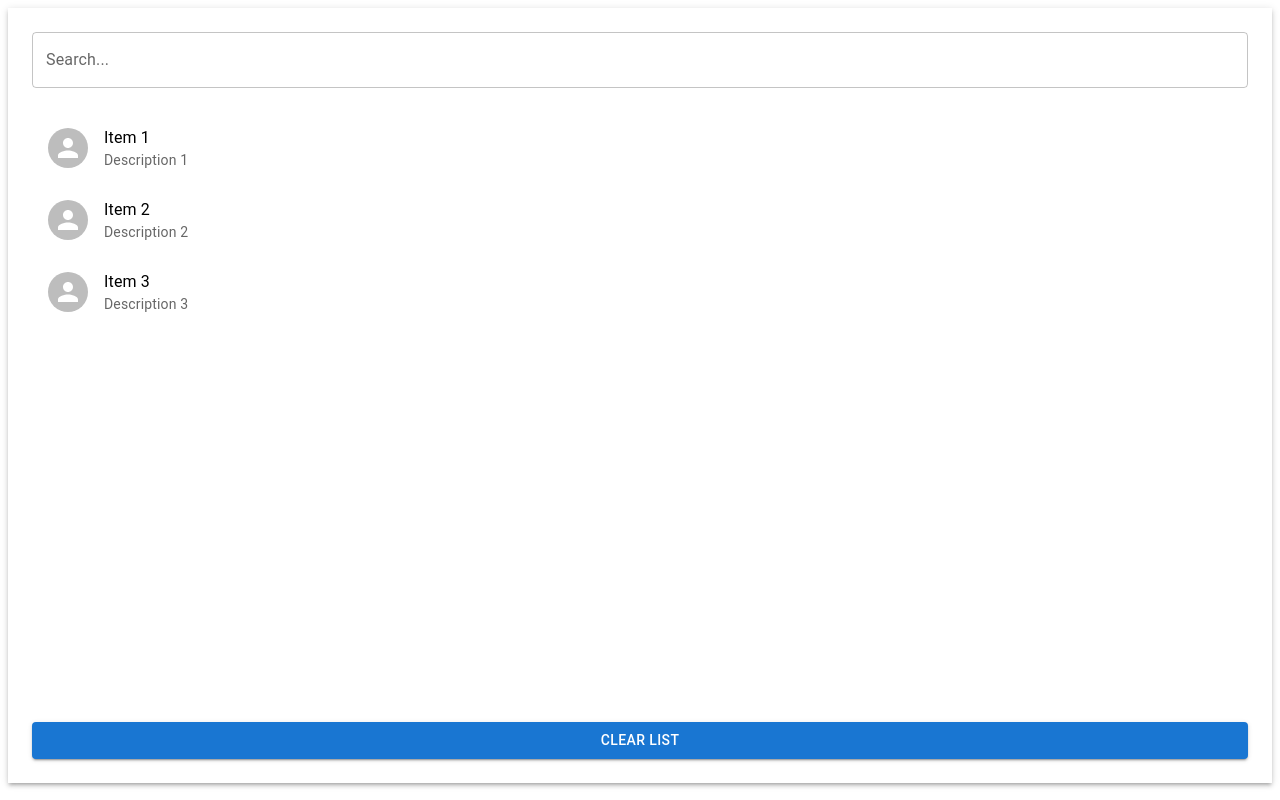
Test: SearchableList component › filters the list based on the search term
Type "Item 1" into the field labelled "Search...".
click(640, 60); type("Item 1")  # box [32,32,1248,88]
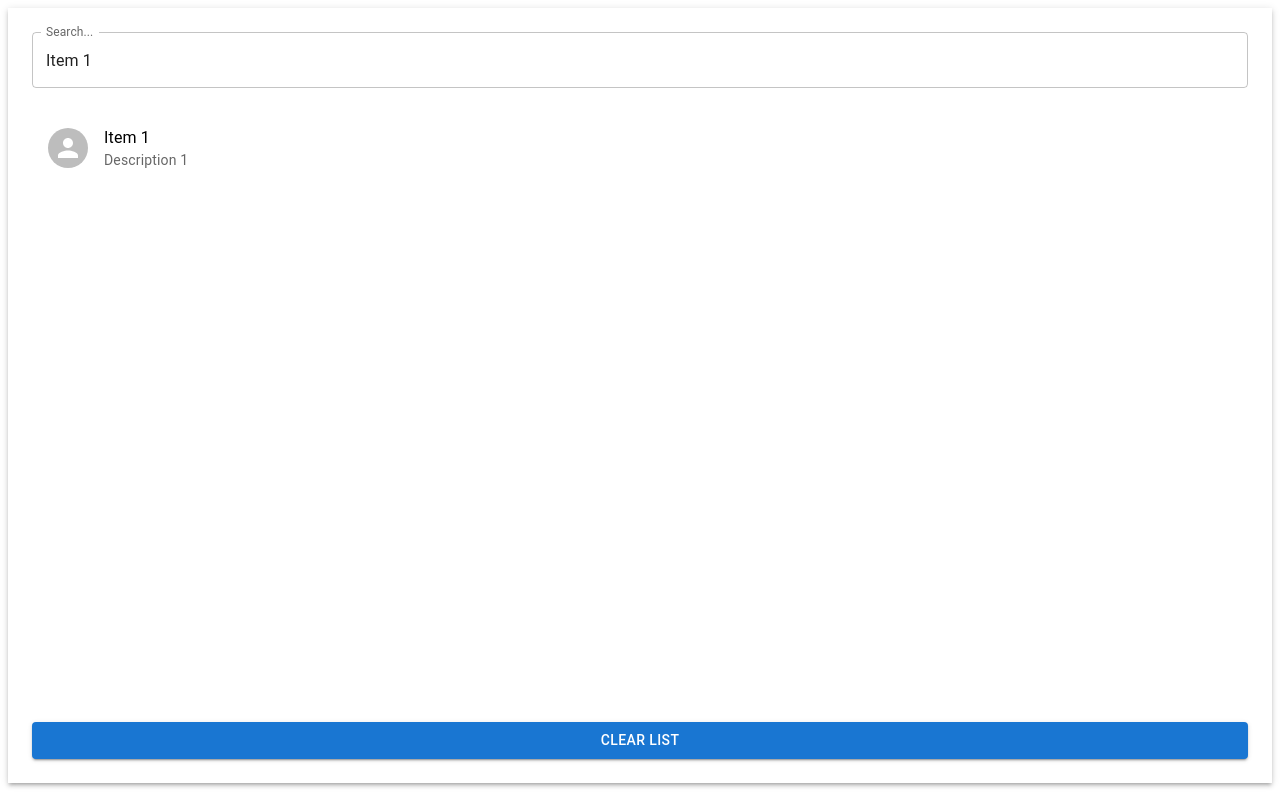
Check: the text "Item 1" is shown, box [104,128,150,147]
Check: the button "Item 2" is gone
